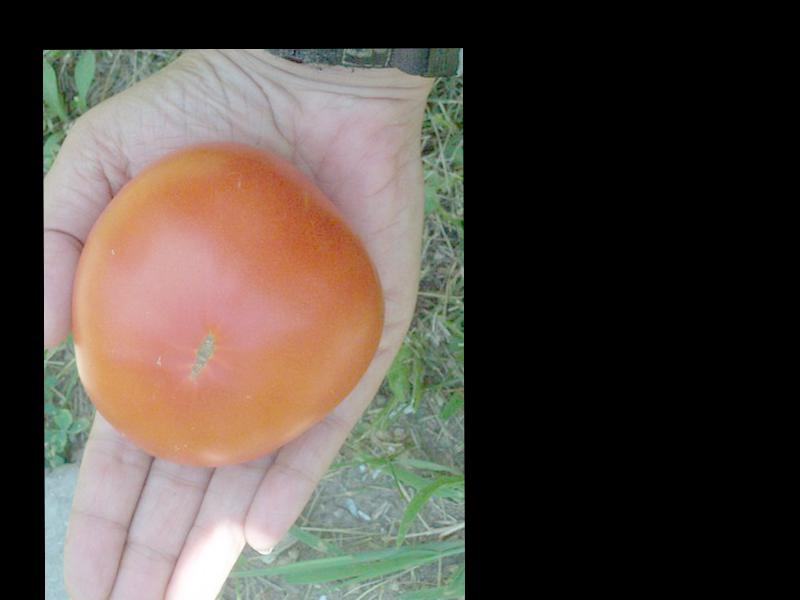Tomato: (71, 145, 385, 466)
